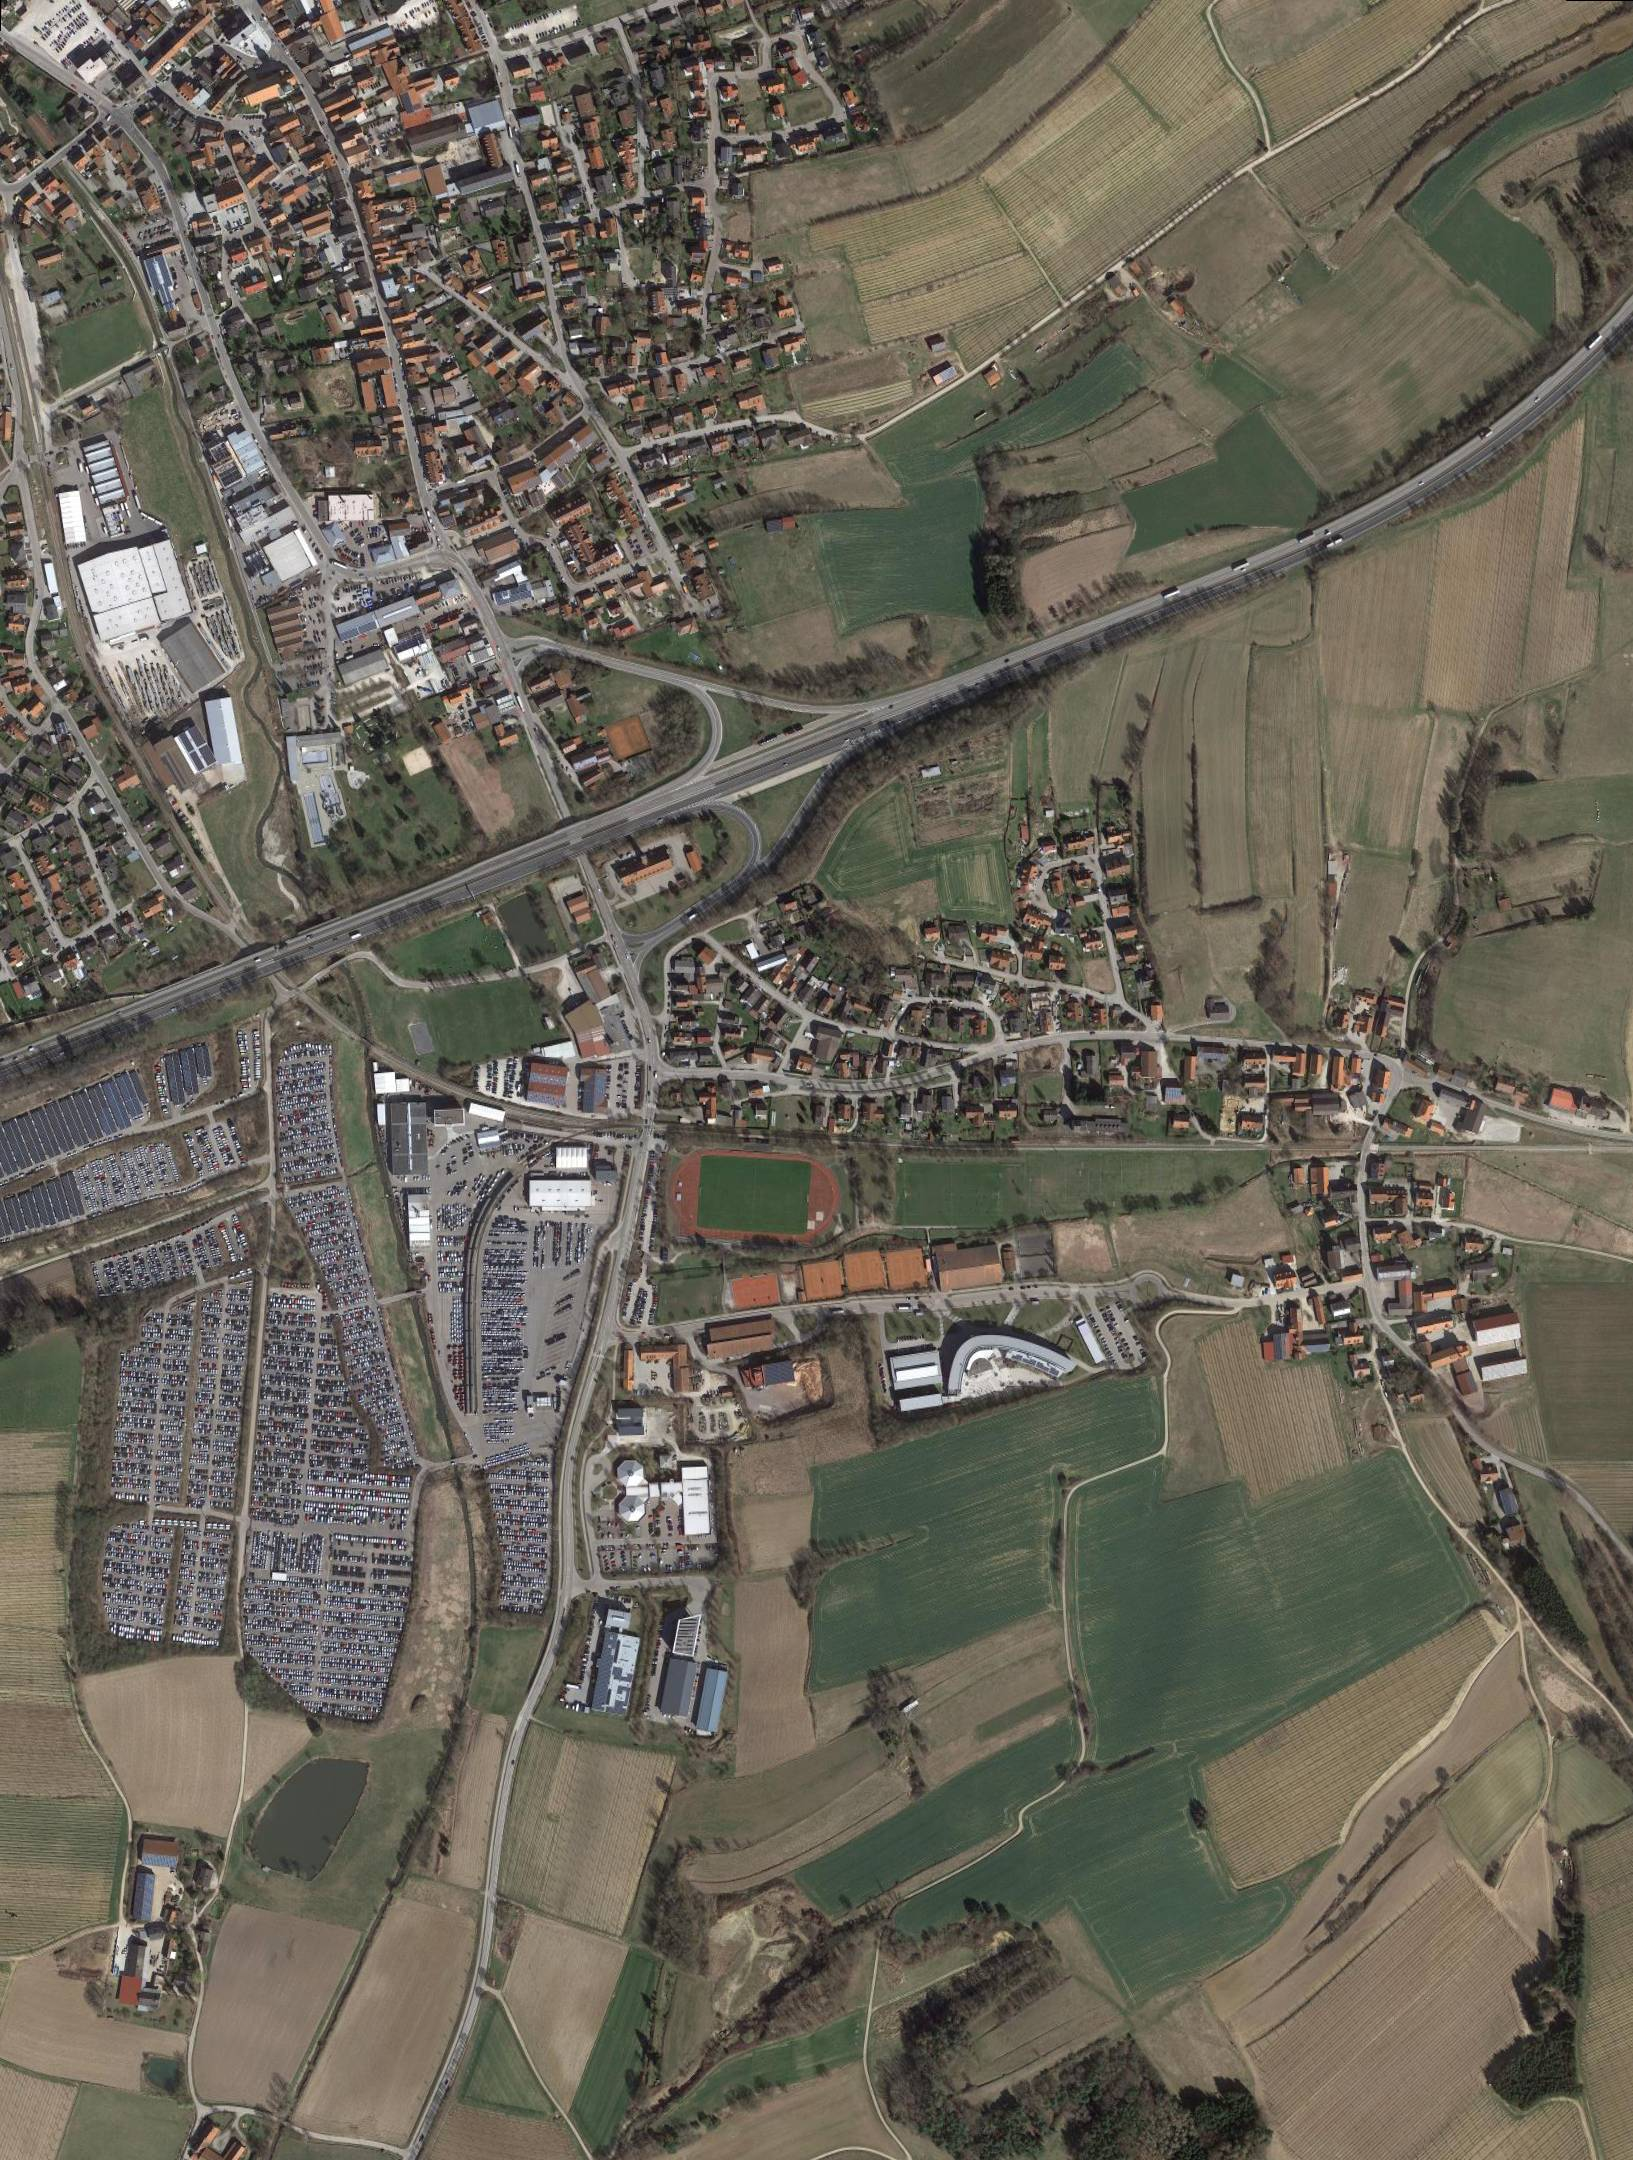ground track field: (664, 1148, 842, 1244)
roundabout: (1130, 1270, 1166, 1311)
soccer ball field: (696, 1156, 811, 1235)
